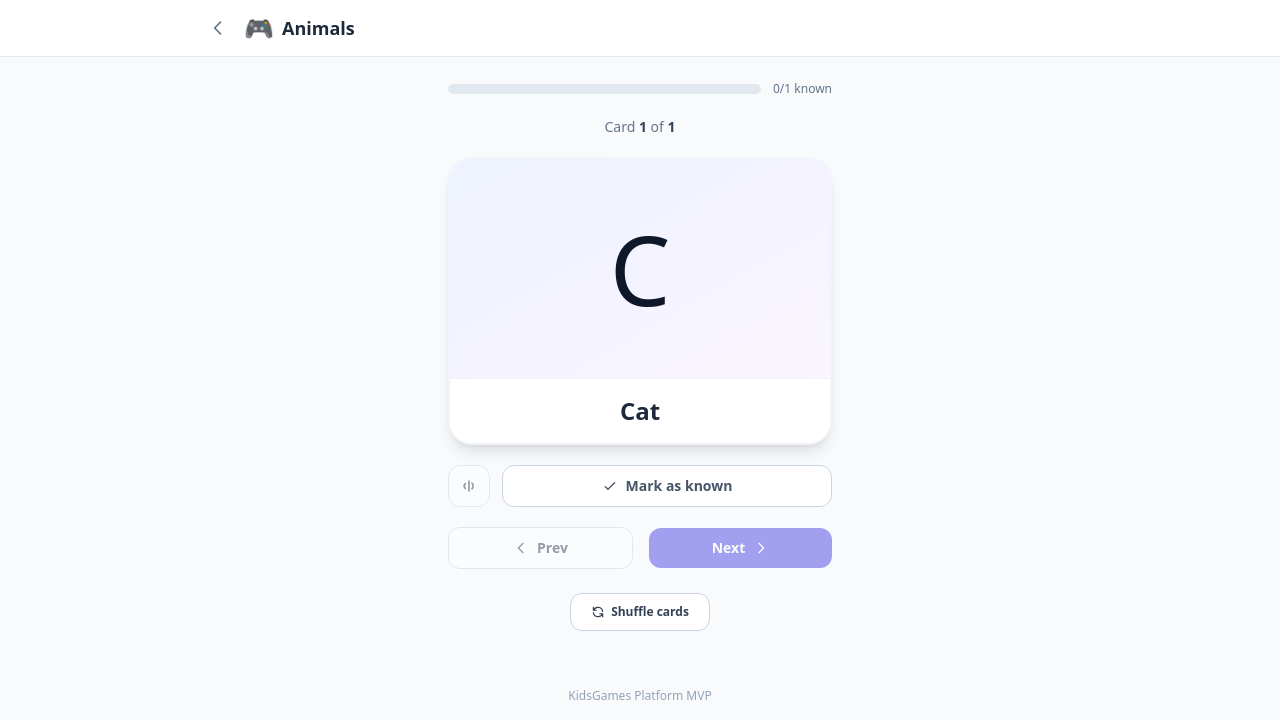
Test: FlashcardGamePage › shows completion message when all cards are marked known
Expected: the text "Cat" is shown, [620,394,660,427]
Click the button "Mark as known": (667, 486) [502,465,832,507]
(page scrolled)
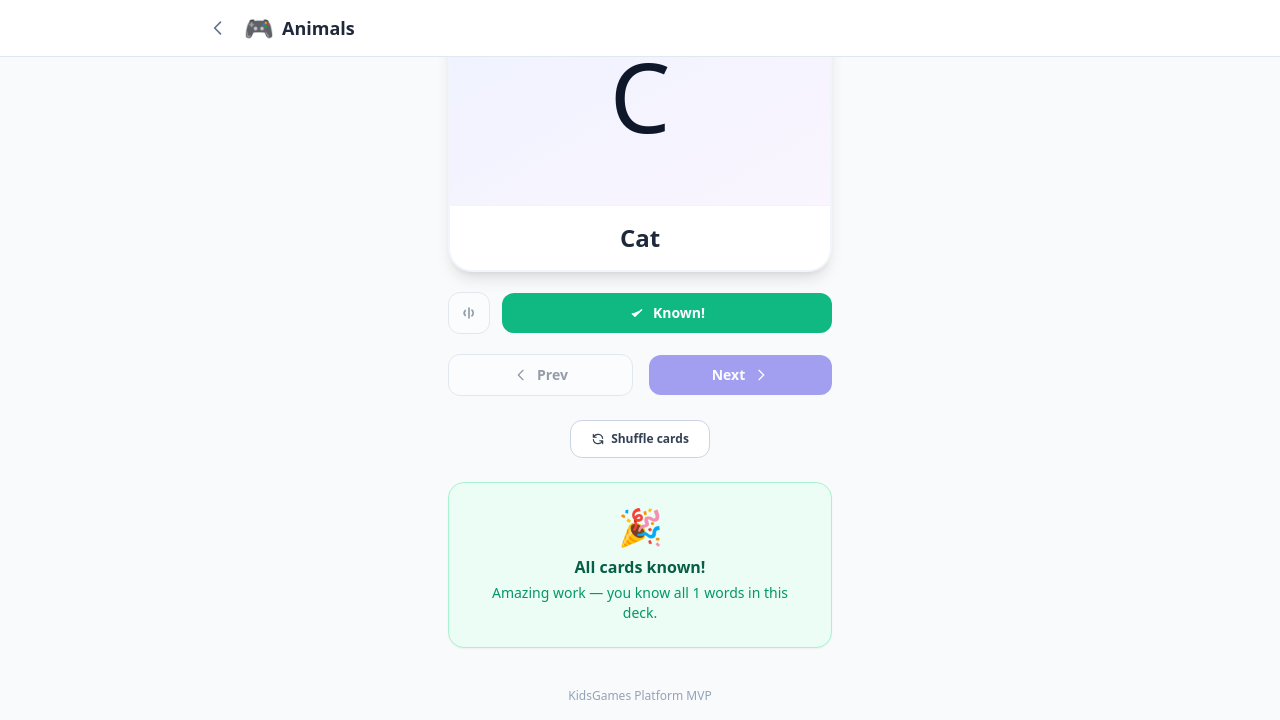
Expected: the text "All cards known!" is shown, [575,556,705,578]
